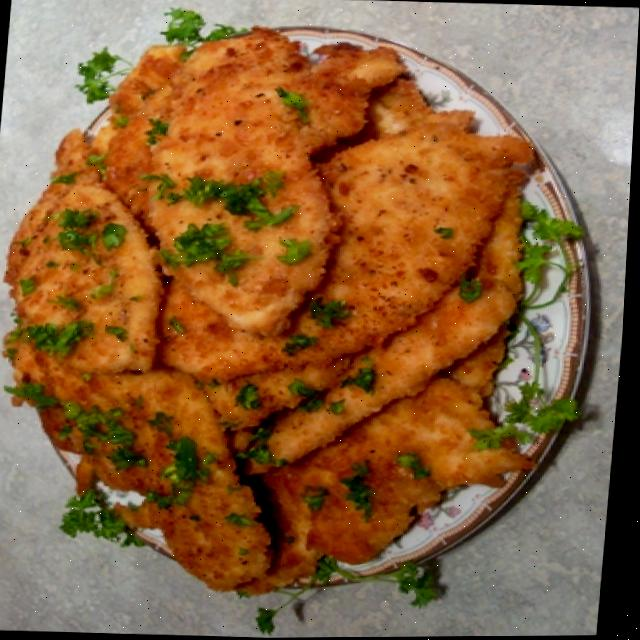鸡肉料理 含炸鸡: (0, 7, 602, 600)
